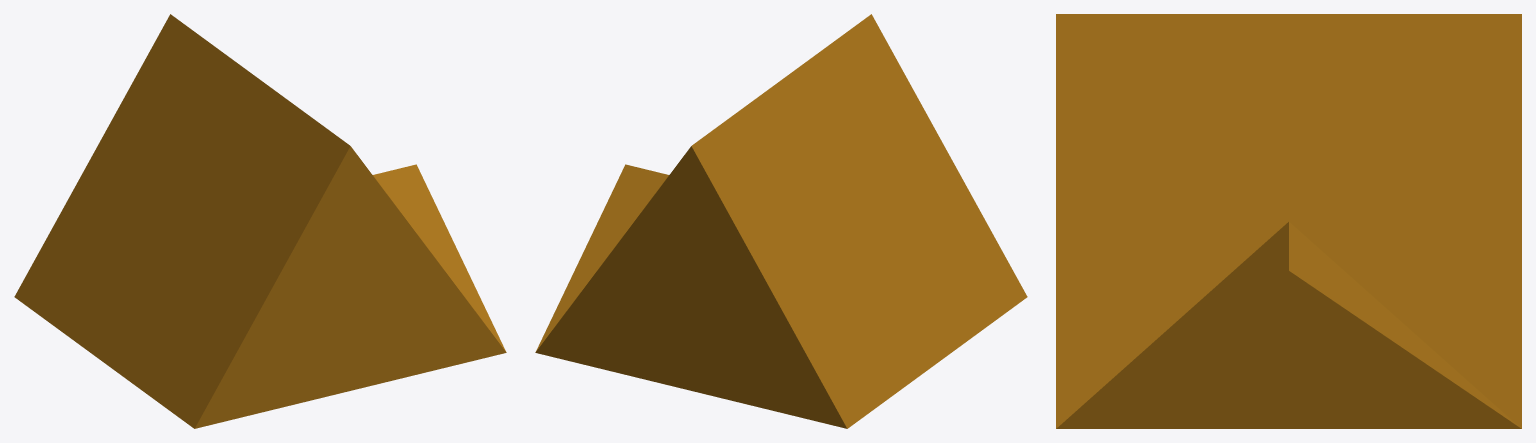
File: Roof-Steep-4x4x3-Gable-Decorative-Ridge.FBX
The picture shows the model from 3 angles, left to right: view 1: azimuth 30°, elevation 25°; view 2: azimuth 150°, elevation 25°; view 3: azimuth 270°, elevation 25°; orthographic projection. The views are drawn at different scales.
Parts seen in each view (by area): view 1: Roof-Steep-4x4x3-Gable-Decorative-Ridge; view 2: Roof-Steep-4x4x3-Gable-Decorative-Ridge; view 3: Roof-Steep-4x4x3-Gable-Decorative-Ridge.
Boxes of the visible parts, x1=… form: Roof-Steep-4x4x3-Gable-Decorative-Ridge: x1=14, y1=14, x2=506, y2=428; Roof-Steep-4x4x3-Gable-Decorative-Ridge: x1=535, y1=14, x2=1027, y2=428; Roof-Steep-4x4x3-Gable-Decorative-Ridge: x1=1056, y1=14, x2=1521, y2=428.
Bounding box in the file's own units: 40 × 40 × 30.
